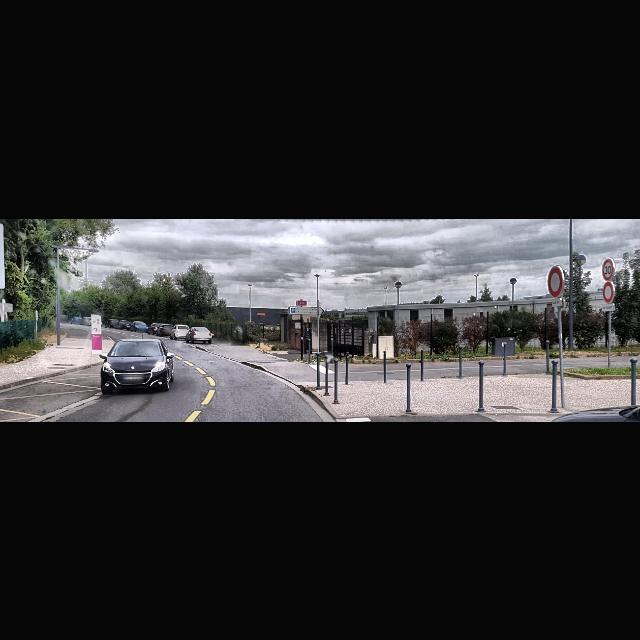speed_30: (603, 257, 614, 280)
